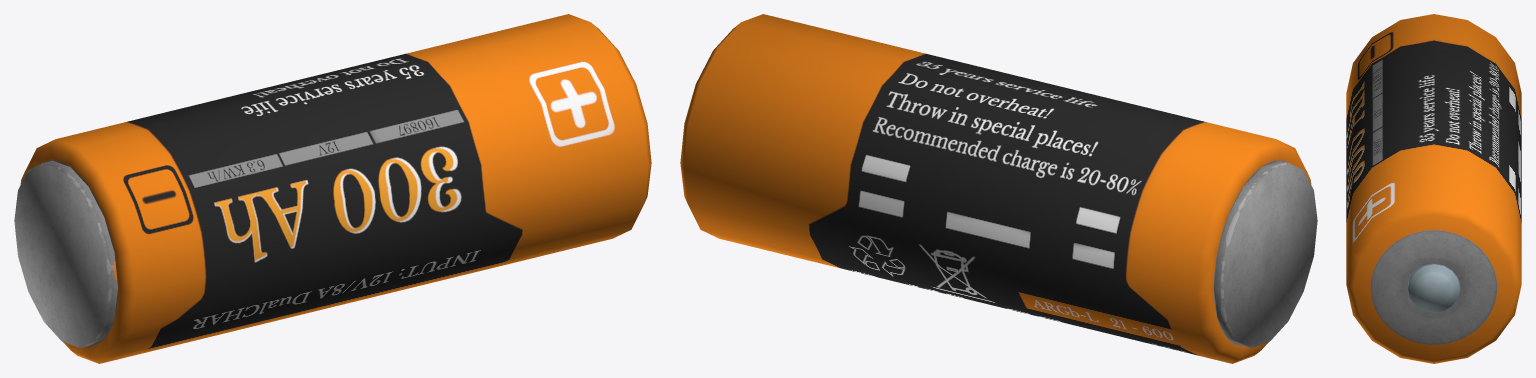
Rendered from battery_low_poly.glb.
3 renders of one model, left to right at view 1: azimuth 30°, elevation 25°; view 2: azimuth 150°, elevation 25°; view 3: azimuth 270°, elevation 25°, orthographic. The views are drawn at different scales.
Parts seen in each view (by area): view 1: Cylinder.001; view 2: Cylinder.001; view 3: Cylinder.001.
Part boxes in pixels (left/top/right/bottom): Cylinder.001: left=14, top=14, right=651, bottom=363; Cylinder.001: left=680, top=14, right=1317, bottom=363; Cylinder.001: left=1346, top=14, right=1521, bottom=363.
Size of the model in its own units: 0.2934 by 0.1078 by 0.1078.
1 material, 1 textured.
